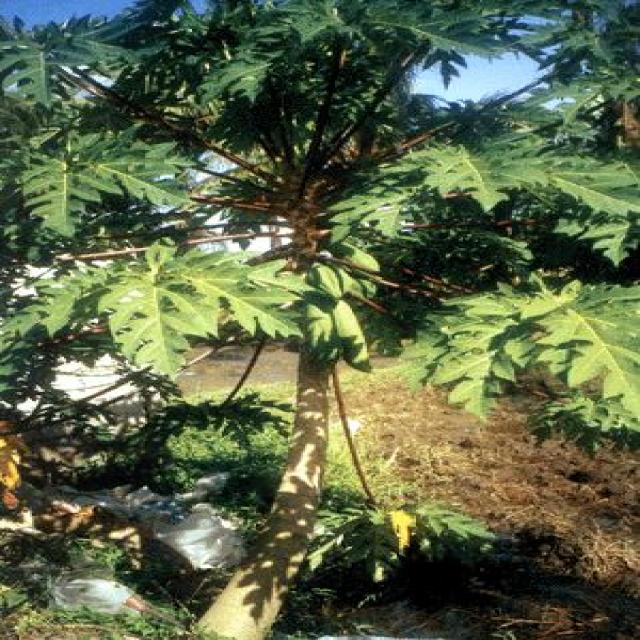Papaya-Tree: (33, 10, 640, 558)
